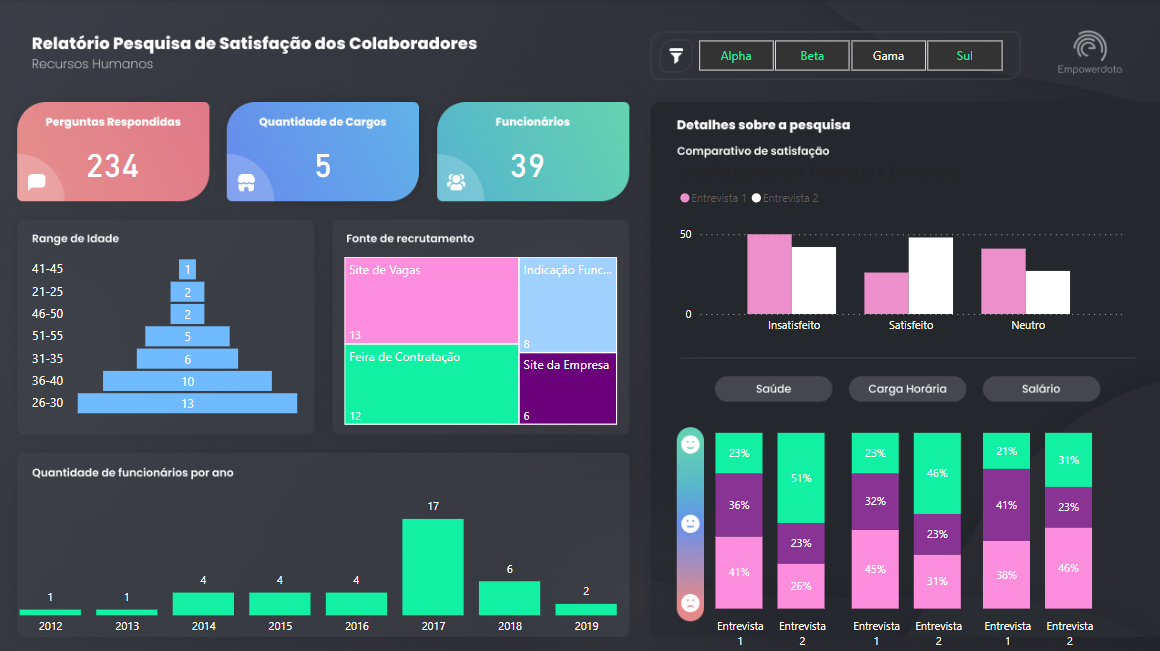

The dashboard page shown, as its layout file describes it:
{"tool":"powerbi","page":{"name":"Página 1","canvas":[1280,720],"ordinal":0},"visuals":[{"type":"card","fields":{"Values":["Entrevistas.qtdePerguntas"]},"box":[0,122.1,249.7,115.3],"z":0},{"type":"card","fields":{"Values":["bd_integrantes.qtdeFuncionarios"]},"box":[455.6,122.1,249.7,115.3],"z":1000},{"type":"card","fields":{"Values":["bd_integrantes.qtdeCargos"]},"box":[230.5,122.1,249.7,115.3],"z":2000},{"type":"clusteredColumnChart","fields":{"Category":["Entrevistas.Resposta"],"Y":["Entrevistas.qtdePerguntas"],"Series":["Entrevistas.Entrevista"]},"box":[742.4,179.8,495.4,196.2],"z":3000},{"type":"slicer","fields":{"Values":["bd_integrantes.Unidade"]},"box":[742.4,38.4,382.8,46.7],"z":4000},{"type":"treemap","fields":{"Values":["bd_integrantes.qtdeFuncionarios"],"Group":["bd_integrantes.Fonte Recrutamento"]},"box":[374.6,278.6,308.7,193.5],"z":5000},{"type":"clusteredColumnChart","fields":{"Category":["bd_integrantes.Data Contratação.Variation.Hierarquia de datas.Ano"],"Y":["bd_integrantes.qtdeFuncionarios"]},"box":[17.8,533.8,665.5,172.9],"z":6000},{"type":"funnel","fields":{"Y":["bd_integrantes.qtdeFuncionarios"],"Category":["bd_integrantes.faixaEtaria"]},"box":[31.6,278.6,306,183.9],"z":7000},{"type":"hundredPercentStackedColumnChart","fields":{"Y":["Entrevistas.qtdePerguntas"],"Series":["Entrevistas.Resposta"],"Category":["Entrevistas.Entrevista"]},"box":[720.4,462.4,255.2,258],"z":8000},{"type":"hundredPercentStackedColumnChart","fields":{"Y":["Entrevistas.qtdePerguntas"],"Series":["Entrevistas.Resposta"],"Category":["Entrevistas.Entrevista"]},"box":[870,462.4,255.2,258],"z":9000},{"type":"hundredPercentStackedColumnChart","fields":{"Y":["Entrevistas.qtdePerguntas"],"Series":["Entrevistas.Resposta"],"Category":["Entrevistas.Entrevista"]},"box":[1014.1,462.4,255.2,258],"z":10000}]}

Visuals, with their boxes in screenshot pixels (x1, y1, x2, y2), scaled from the page's 1280x720 canvas onto the 1160x651 screenshot:
card - Entrevistas.qtdePerguntas: left=0, top=110, right=226, bottom=215
card - bd_integrantes.qtdeFuncionarios: left=413, top=110, right=639, bottom=215
card - bd_integrantes.qtdeCargos: left=209, top=110, right=435, bottom=215
clusteredColumnChart - Entrevistas.Resposta x Entrevistas.qtdePerguntas: left=673, top=163, right=1122, bottom=340
slicer - bd_integrantes.Unidade: left=673, top=35, right=1020, bottom=77
treemap - bd_integrantes.qtdeFuncionarios x bd_integrantes.Fonte Recrutamento: left=339, top=252, right=619, bottom=427
clusteredColumnChart - bd_integrantes.Data Contratação.Variation.Hierarquia de datas.Ano x bd_integrantes.qtdeFuncionarios: left=16, top=483, right=619, bottom=639
funnel - bd_integrantes.qtdeFuncionarios x bd_integrantes.faixaEtaria: left=29, top=252, right=306, bottom=418
hundredPercentStackedColumnChart - Entrevistas.qtdePerguntas x Entrevistas.Resposta: left=653, top=418, right=884, bottom=650
hundredPercentStackedColumnChart - Entrevistas.qtdePerguntas x Entrevistas.Resposta: left=788, top=418, right=1020, bottom=650
hundredPercentStackedColumnChart - Entrevistas.qtdePerguntas x Entrevistas.Resposta: left=919, top=418, right=1150, bottom=650
